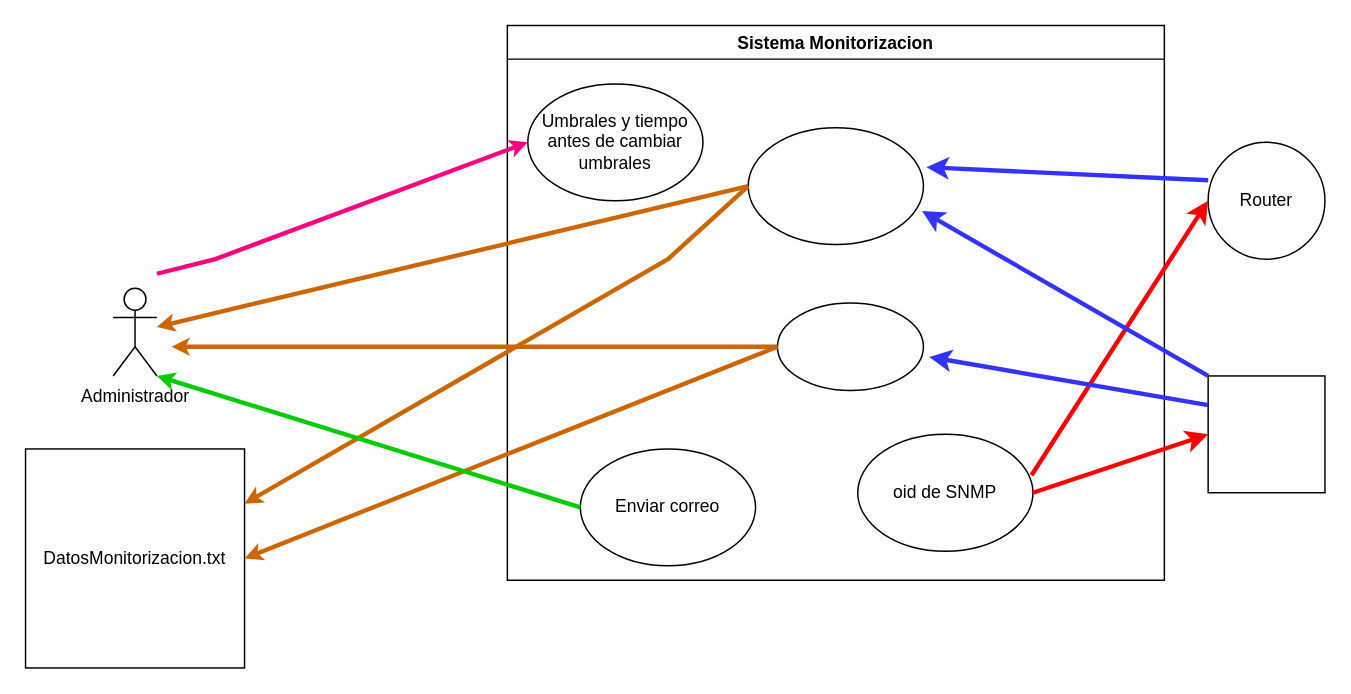
The diagram is 1351 pixels wide and 694 high, and some of its shapes have lost their labels. The centre of each missing label's shape, as x and y in pixels:
"informacion almacenamiento" goes at (x=849, y=346).
"informacion Memoria cpu e interfaces" goes at (x=835, y=185).
"Maquina Virtual" goes at (x=1266, y=433).
